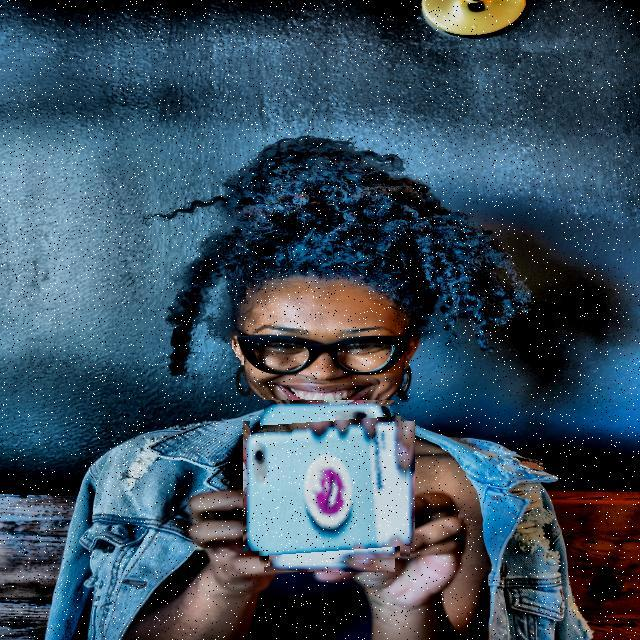Phone: (252, 408, 408, 564)
